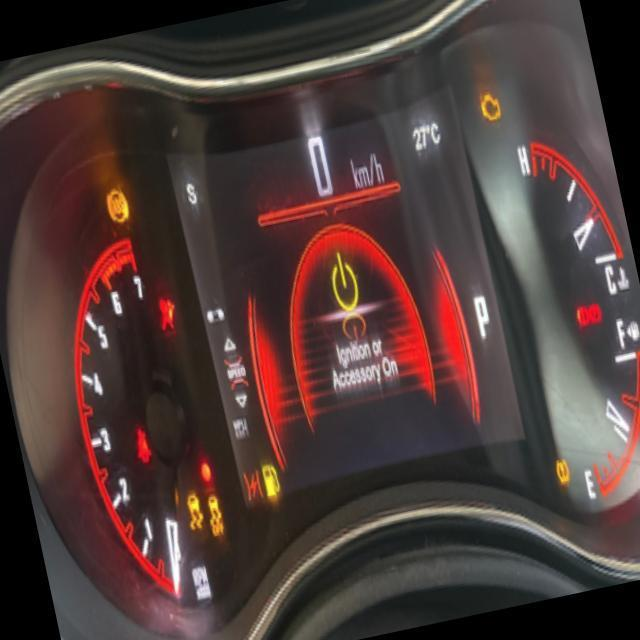Low fuel level: (256, 447, 284, 504)
